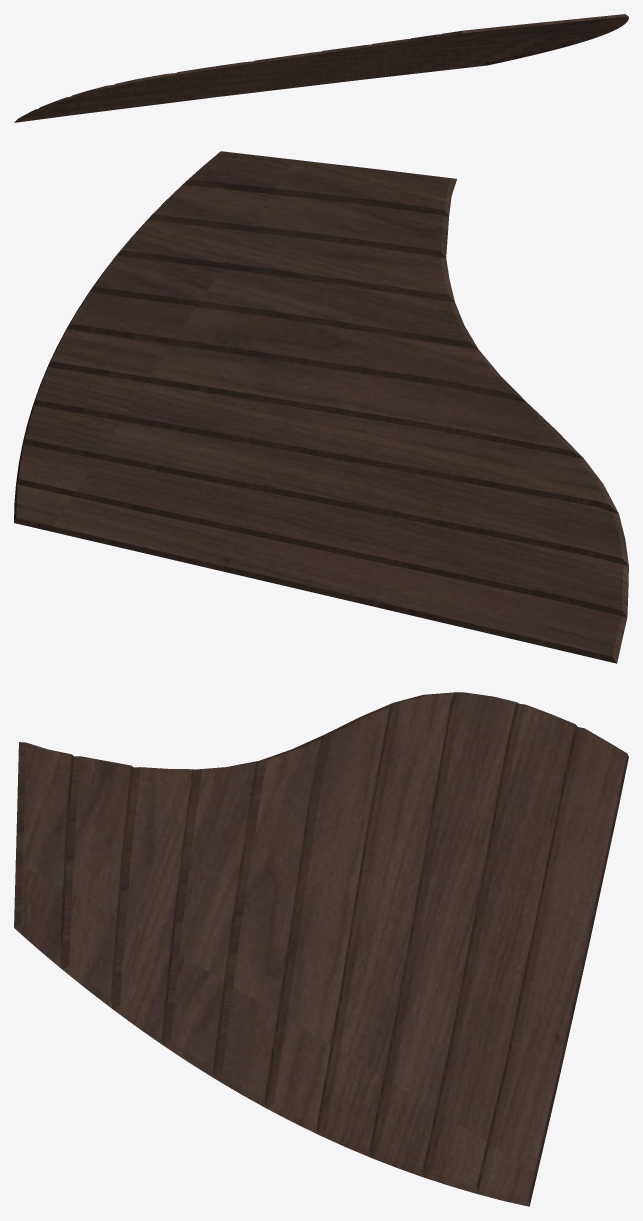
The picture shows the model from 3 angles, top to bottom: view 1: azimuth 30°, elevation 25°; view 2: azimuth 150°, elevation 25°; view 3: azimuth 270°, elevation 25°; orthographic projection. The views are drawn at different scales.
Parts seen in each view (by area): view 1: 筝尾; view 2: 筝尾; view 3: 筝尾.
Part boxes in pixels (box(x1,y1,x2,y2)): 筝尾: box(14, 14, 628, 122); 筝尾: box(14, 151, 628, 663); 筝尾: box(14, 692, 628, 1206).
Bounding box in the file's own units: 291 × 102 × 178.
1 material, 1 textured.
